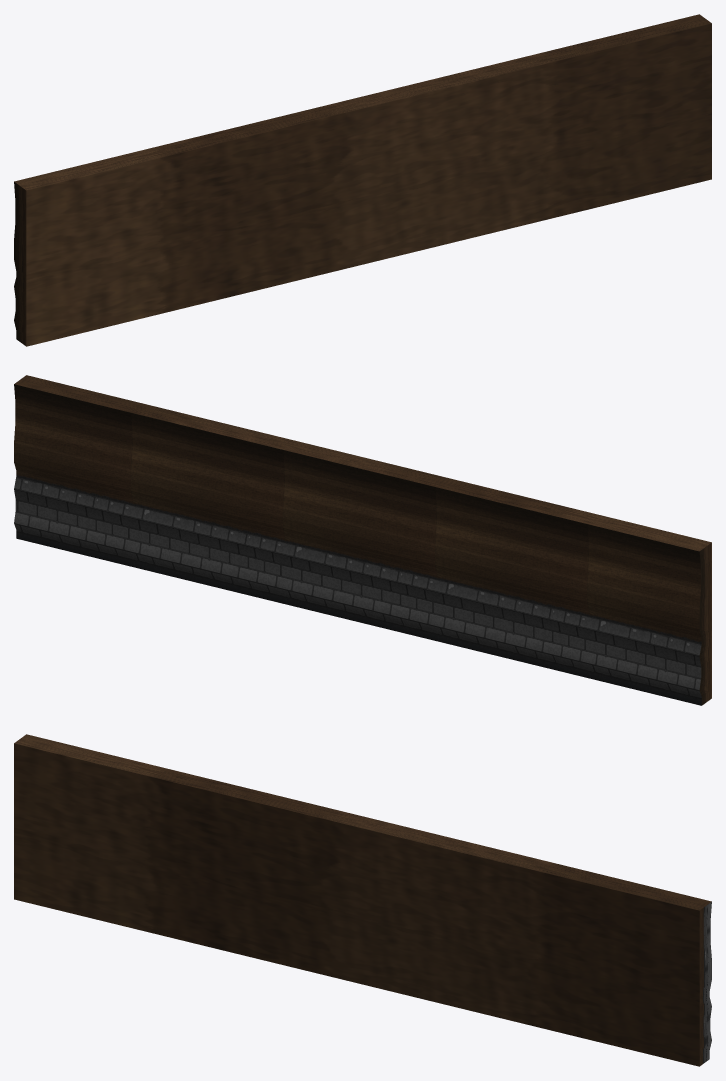
File: mur2.fbx
The picture shows the model from 3 angles, top to bottom: view 1: azimuth 30°, elevation 25°; view 2: azimuth 150°, elevation 25°; view 3: azimuth 330°, elevation 25°; orthographic projection.
Parts seen in each view (by area): view 1: Cube.013; view 2: Cube.013; view 3: Cube.013.
Boxes of the visible parts, left/top/right/bottom form: Cube.013: left=14, top=14, right=711, bottom=346; Cube.013: left=14, top=375, right=711, bottom=705; Cube.013: left=14, top=734, right=711, bottom=1066.
Size of the model in its own units: 6348 by 1381 by 200.
